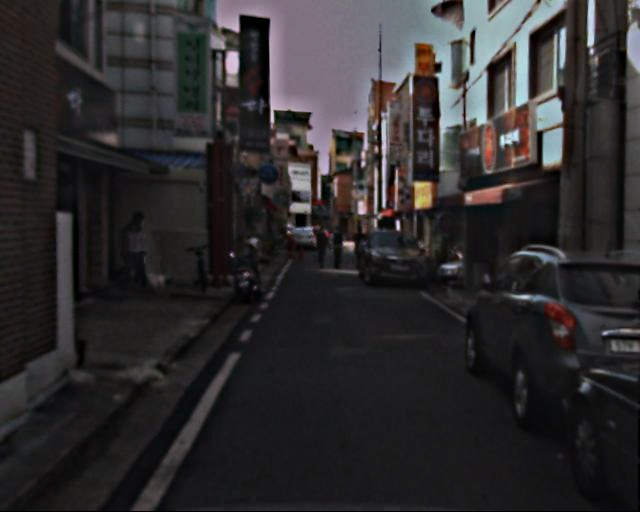person: (122, 217, 153, 292), (313, 226, 331, 271), (328, 226, 346, 270), (351, 231, 367, 271)
